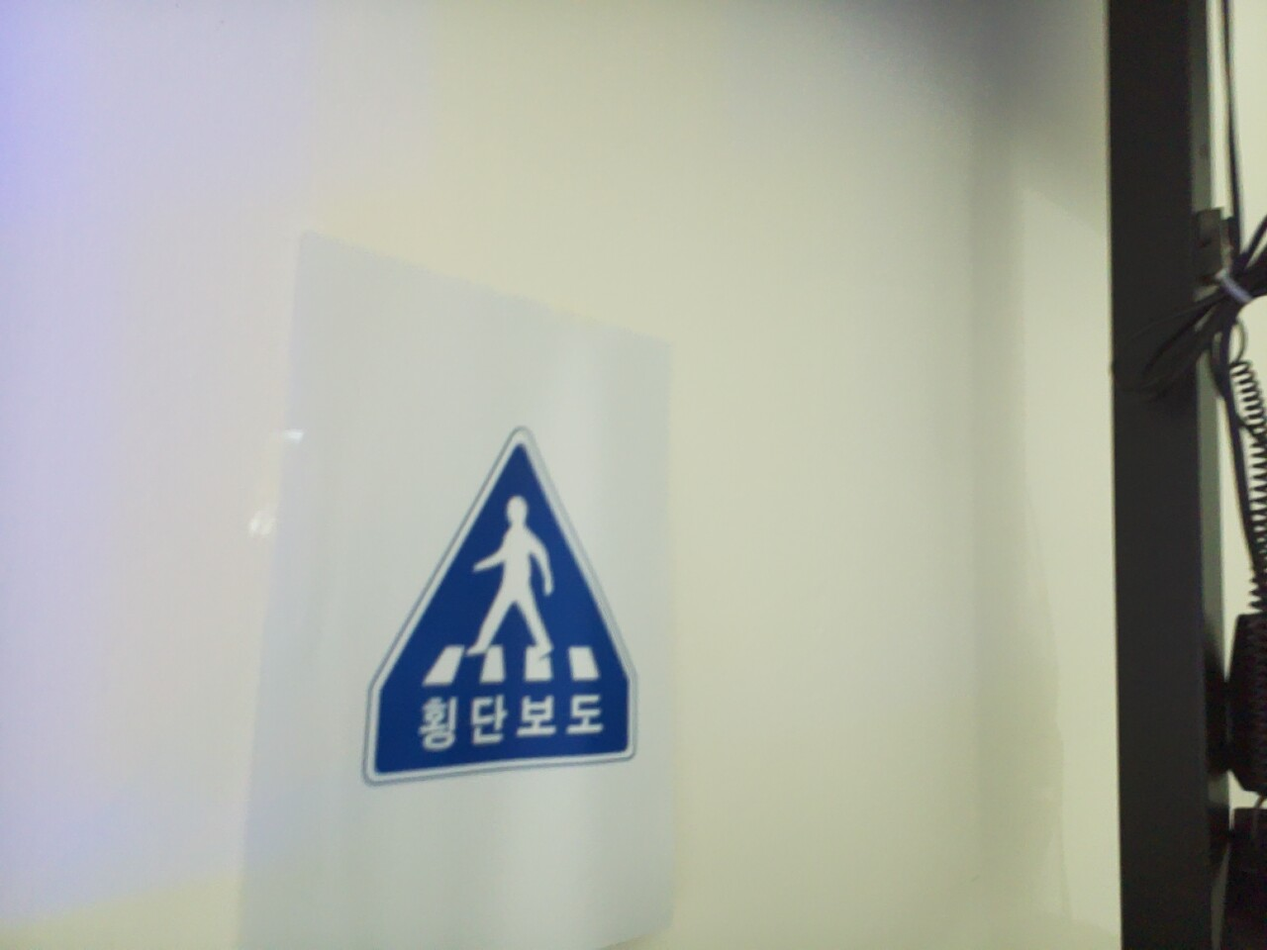crosswalk: (365, 433, 638, 784)
